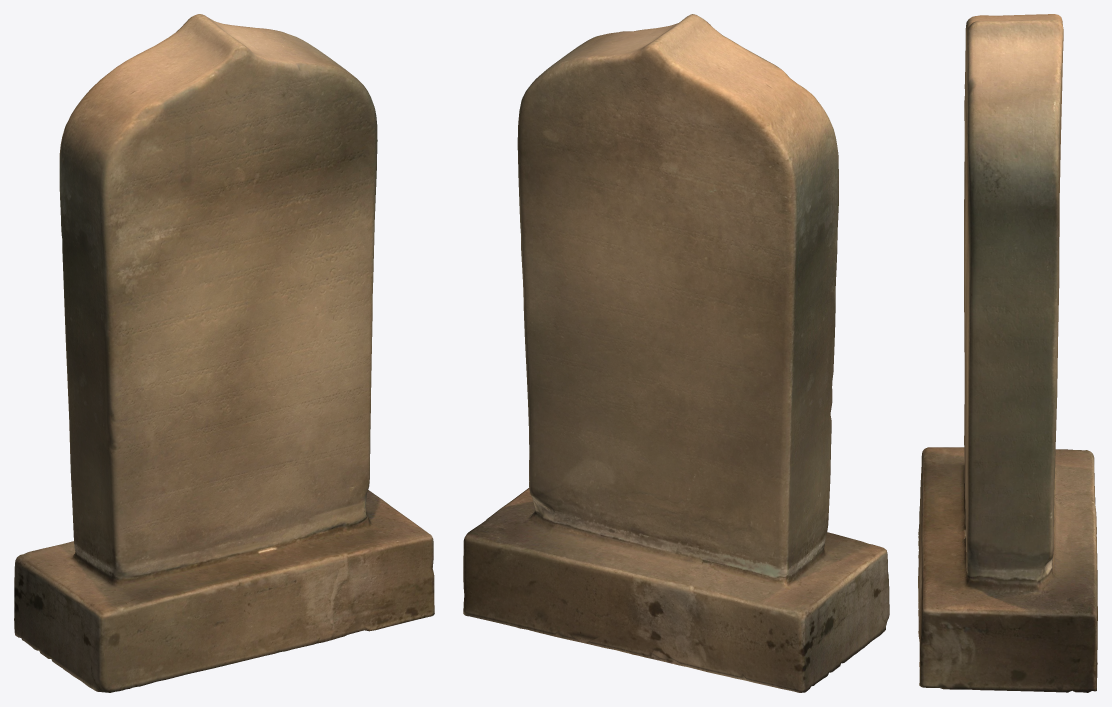
The model's file is 5_biada_final.glb.
3 views of the same model, side by side, from view 1: azimuth 30°, elevation 25°; view 2: azimuth 150°, elevation 25°; view 3: azimuth 270°, elevation 25° (orthographic).
Size of the model in its own units: 0.6202 by 1.04 by 0.2874.
1 material, 1 textured.
